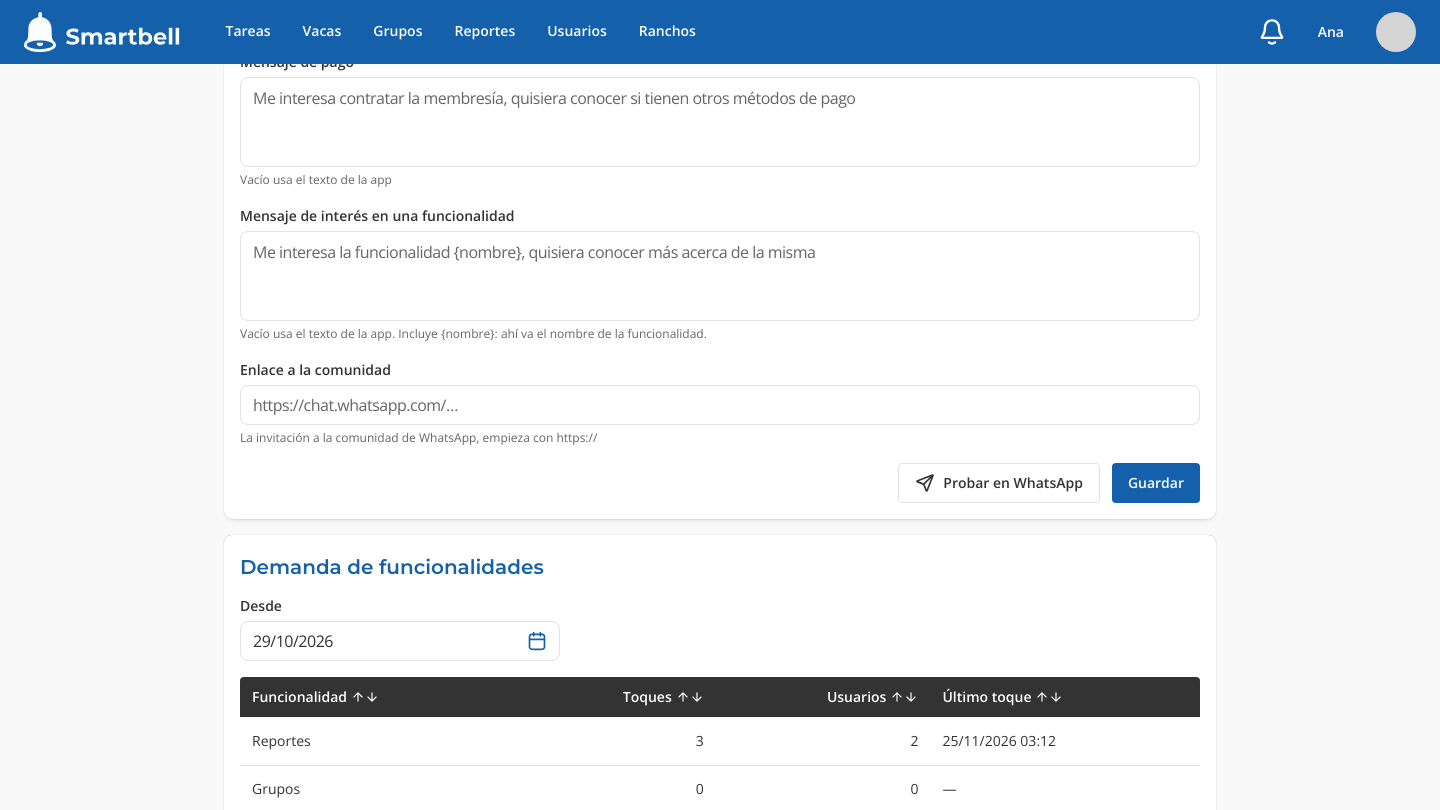
it: Soporte form › shows what the API refused on its field
The width and height of the screenshot is (1440, 810).
(page scrolled)
Type "https://chat.whatsapp.com/AbC123" into the field labelled "Enlace a la comunidad" at (720, 405), box [253,386,1187,424]
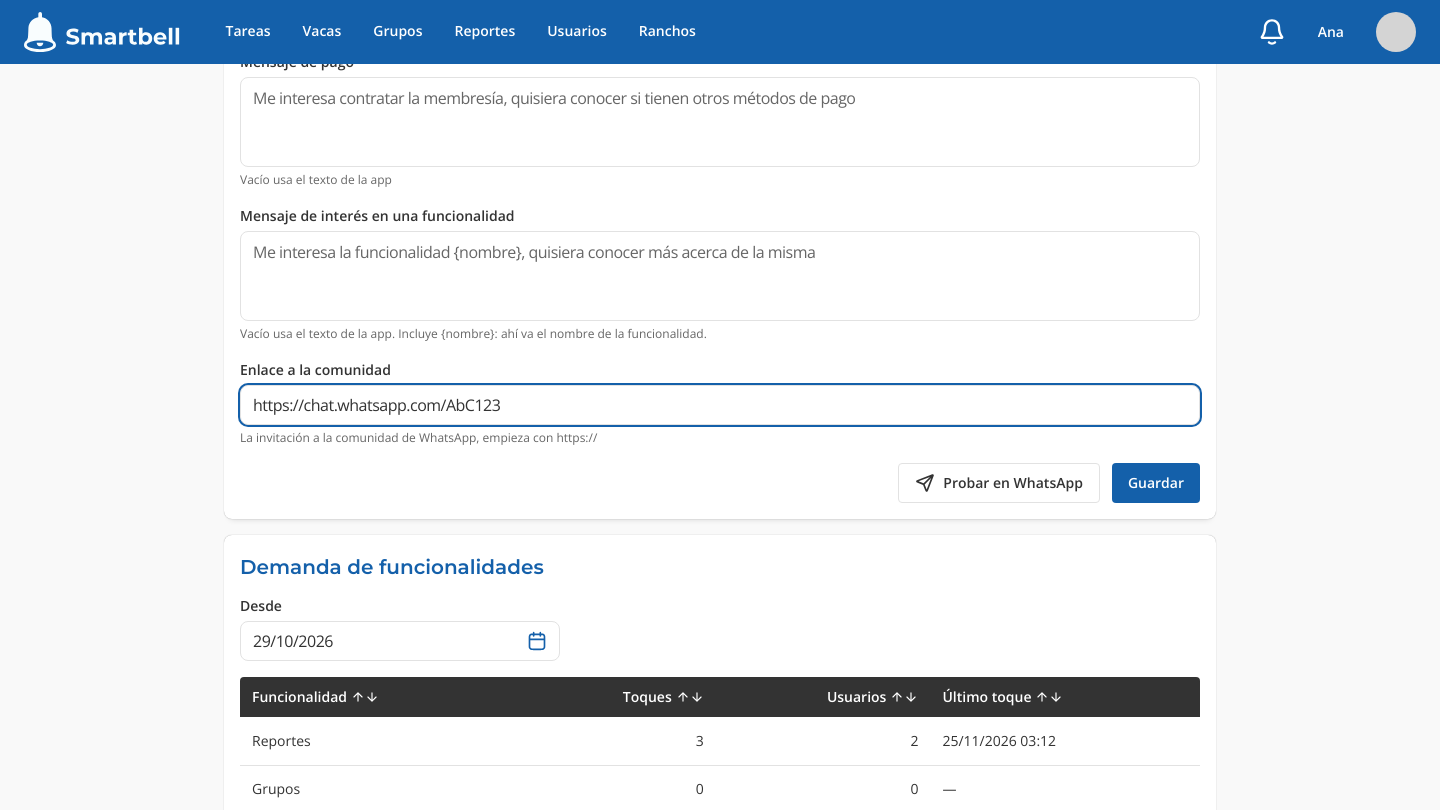
Click the button "Guardar" at (1156, 483), box [1112,463,1200,503]
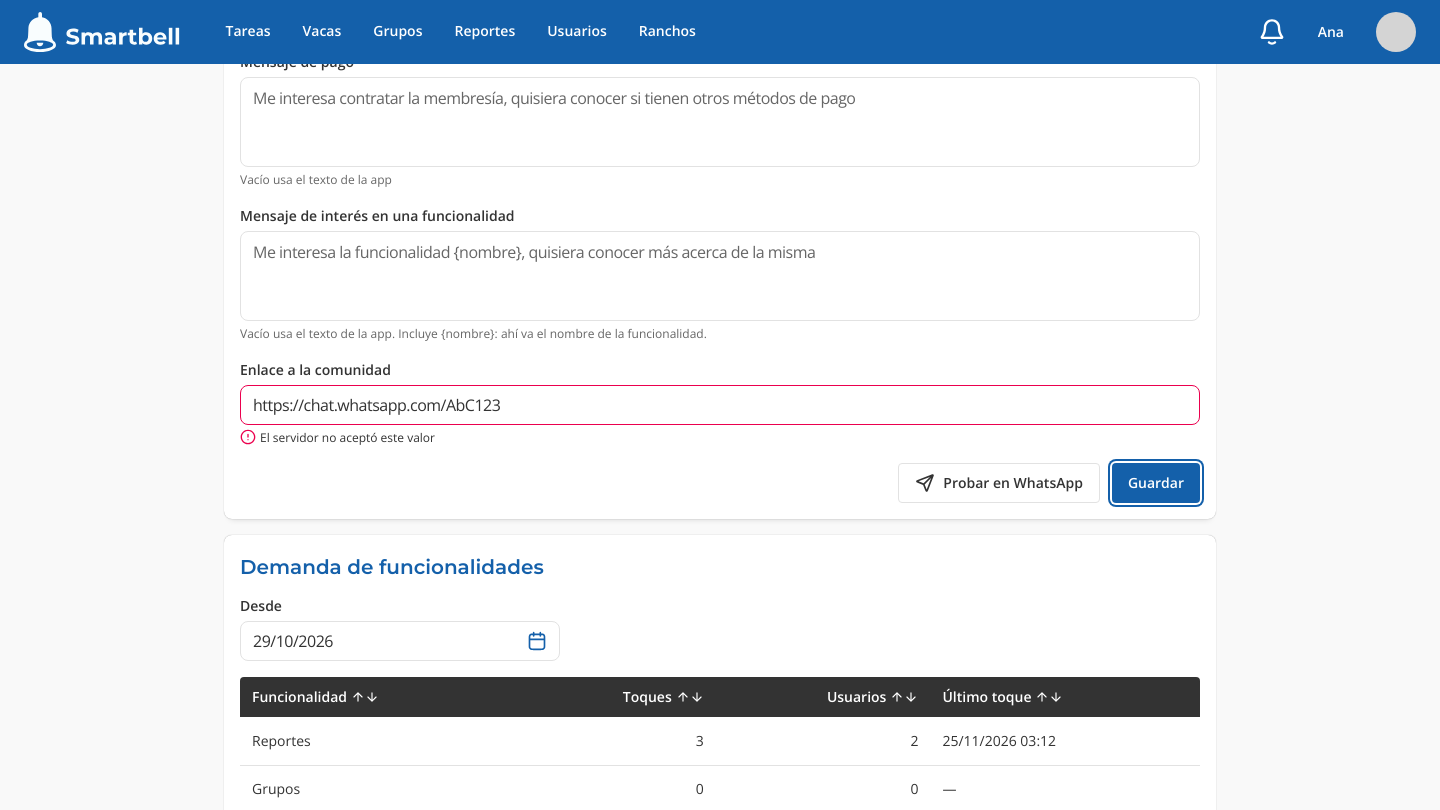
Now the text "El servidor no aceptó este valor" is shown, box [240,429,435,446]
